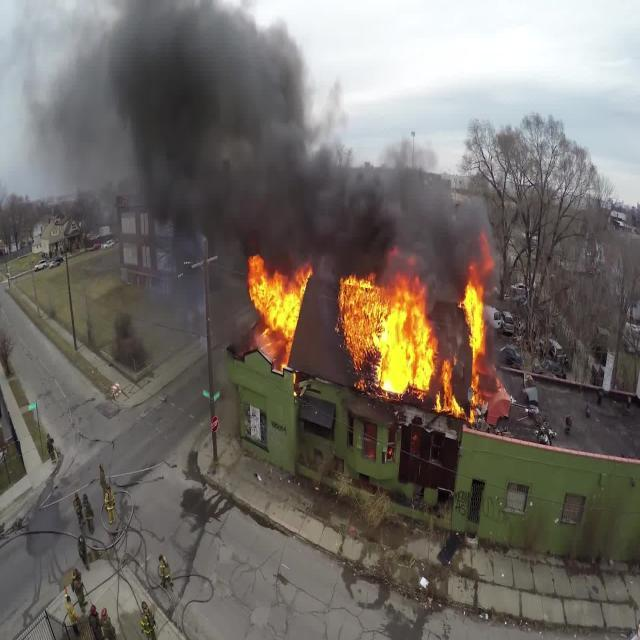Fire: (336, 256, 489, 424), (238, 256, 314, 364)
Smoke: (14, 0, 492, 256)
